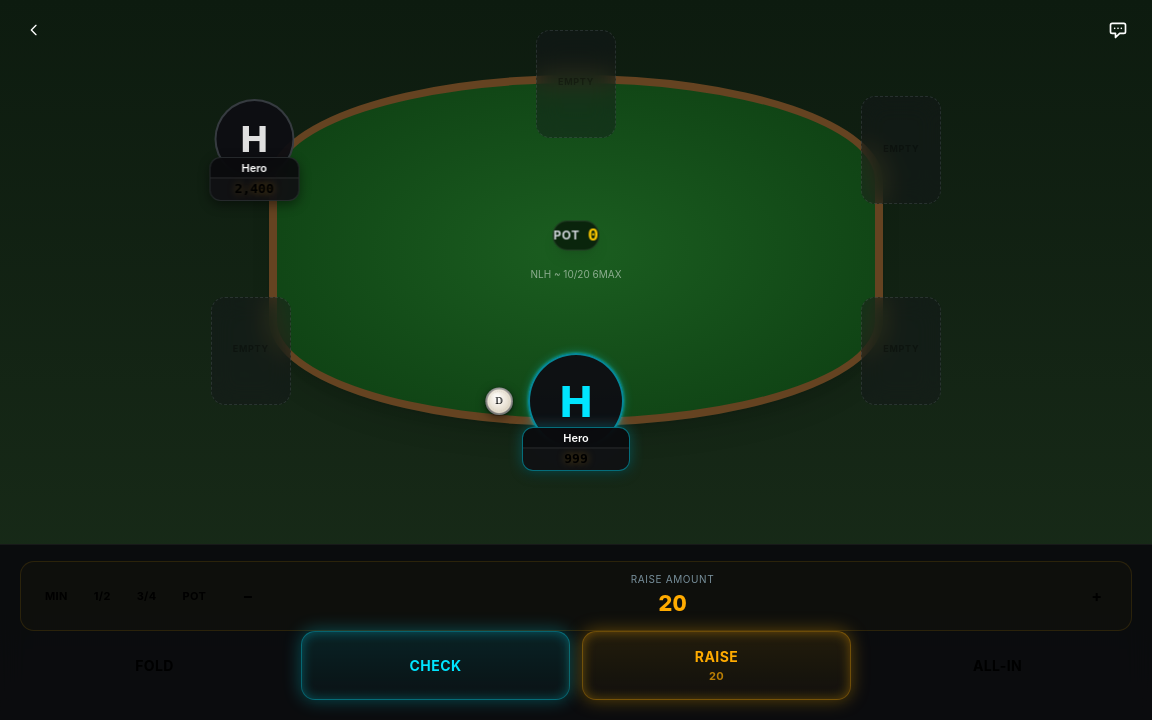
Scenario: leaving a table › quotes my own stack, not another seat
The width and height of the screenshot is (1152, 720).
Click the button named "back to menu".
click(34, 30)  # box [12,8,56,52]
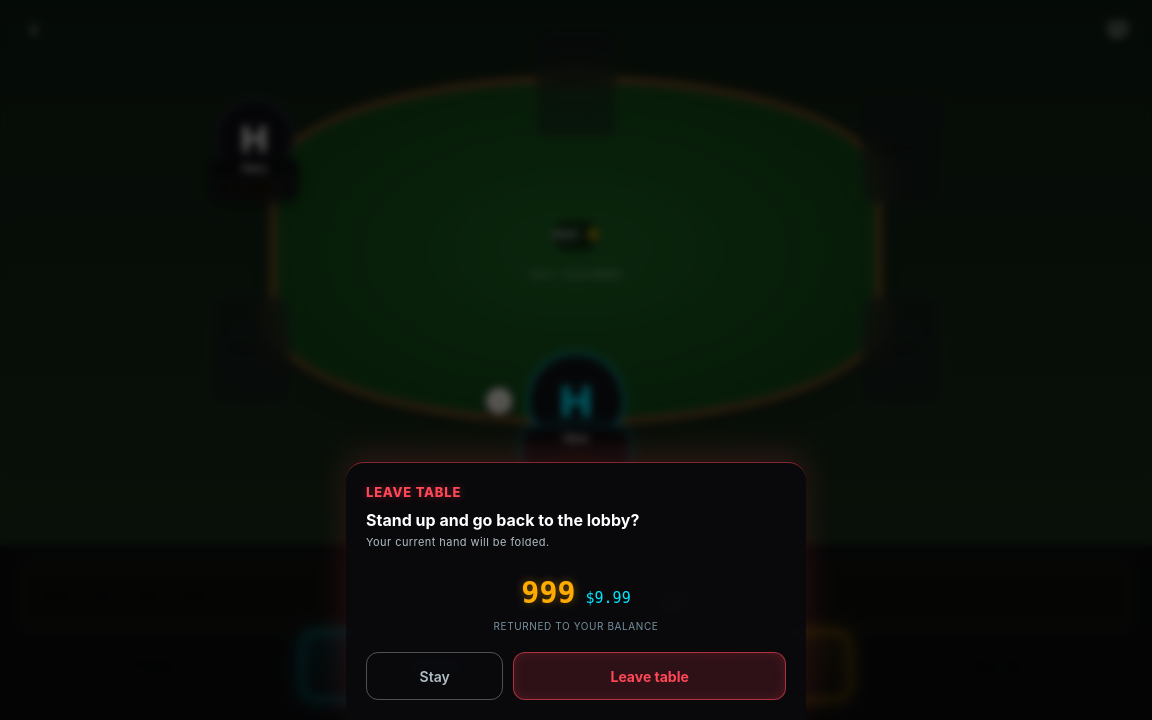
Check: the text "$9.99" is shown, box [586,587,631,610]
